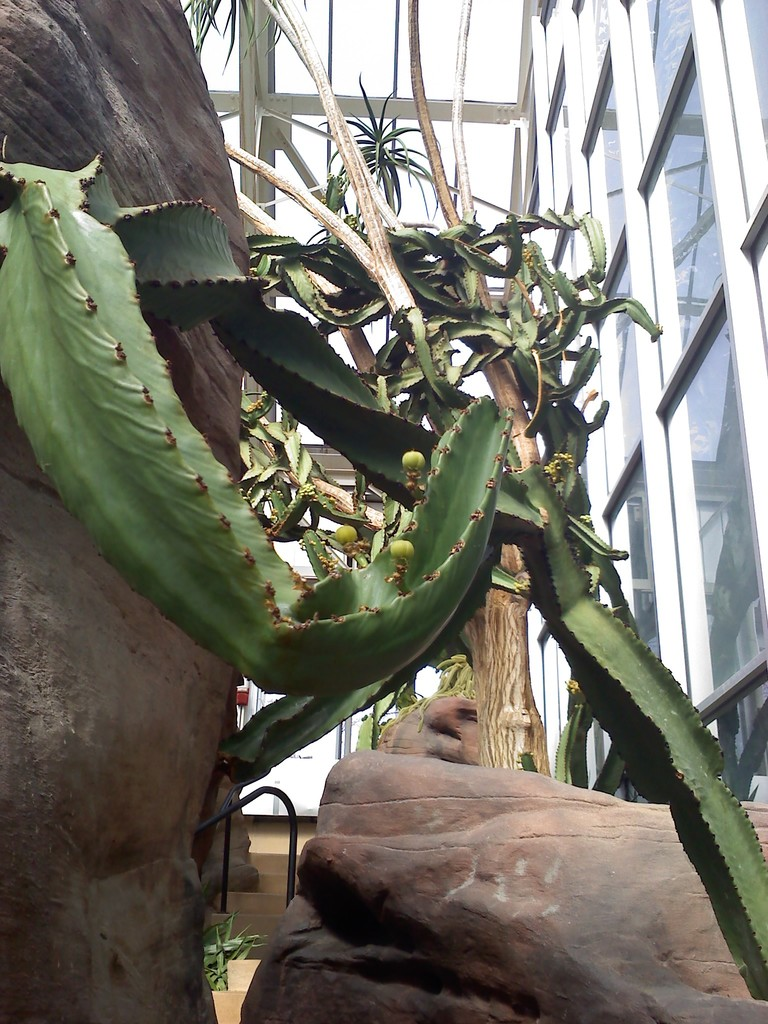Tree: (0, 0, 767, 1003)
